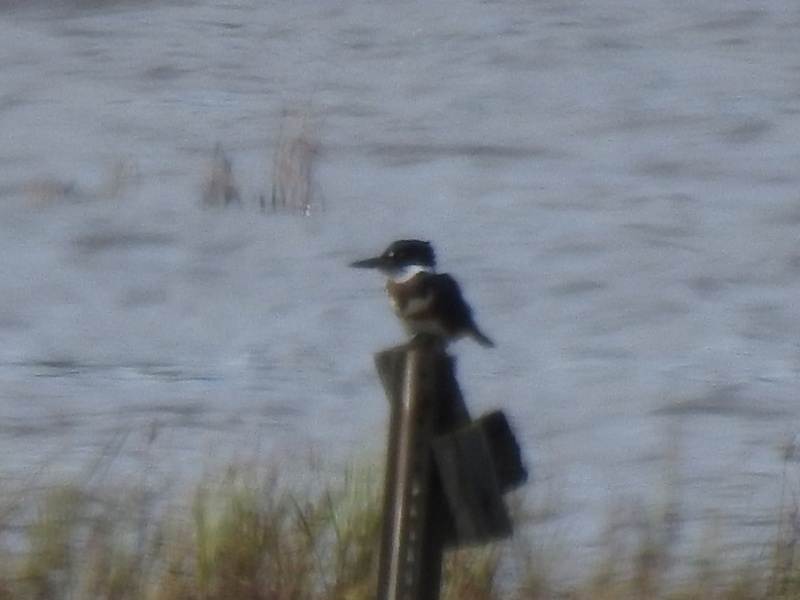kingfisher: (345, 238, 497, 353)
